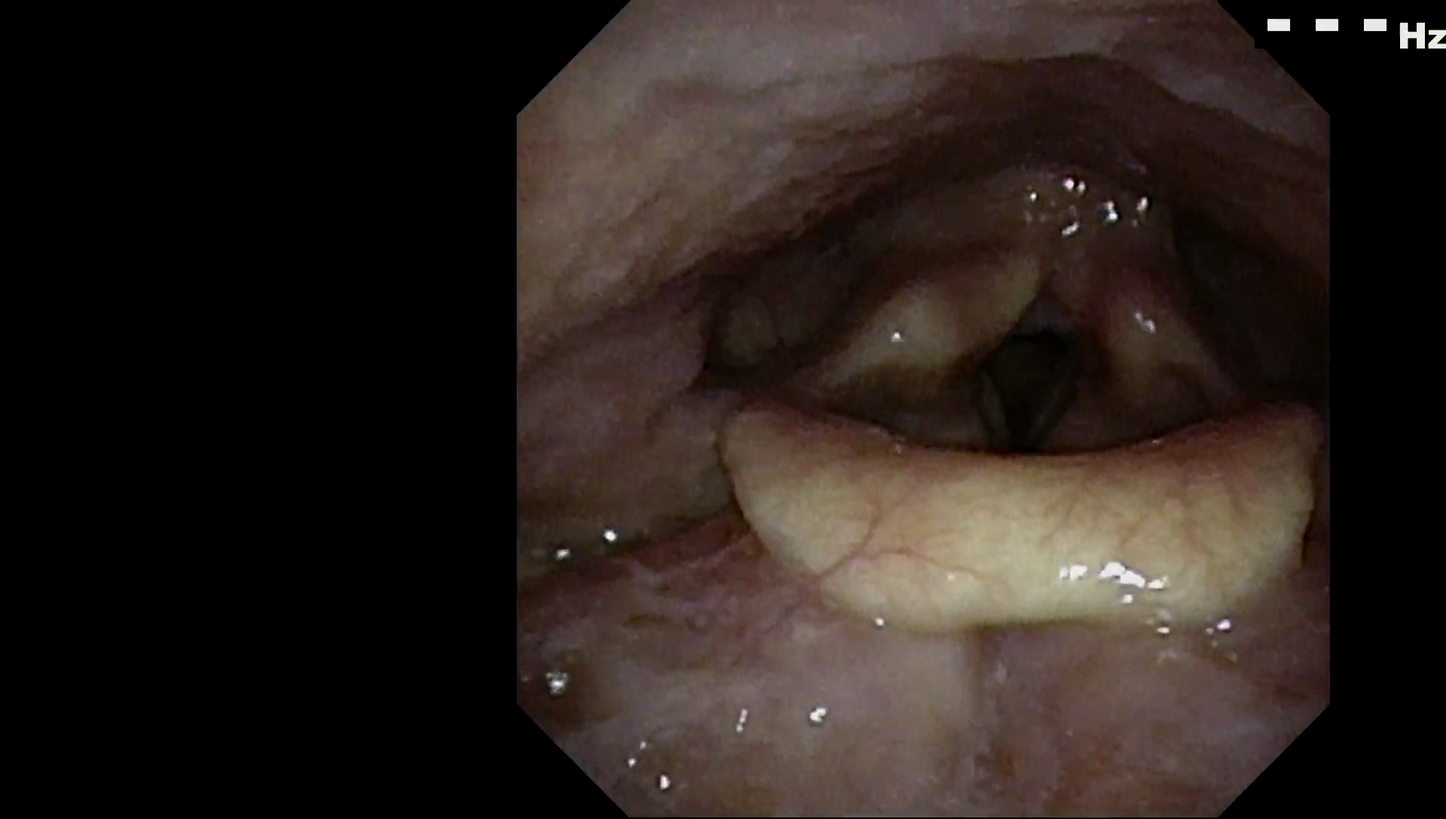trachea: (959, 319, 1116, 479)
